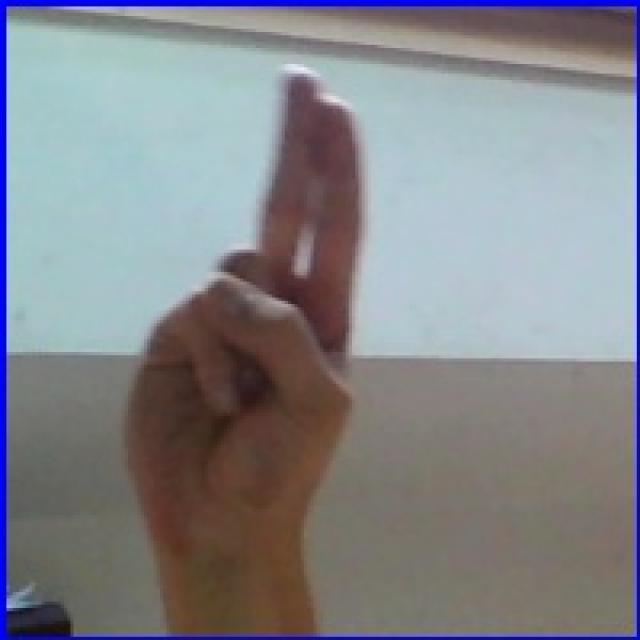Letra-U: (95, 57, 398, 559)
